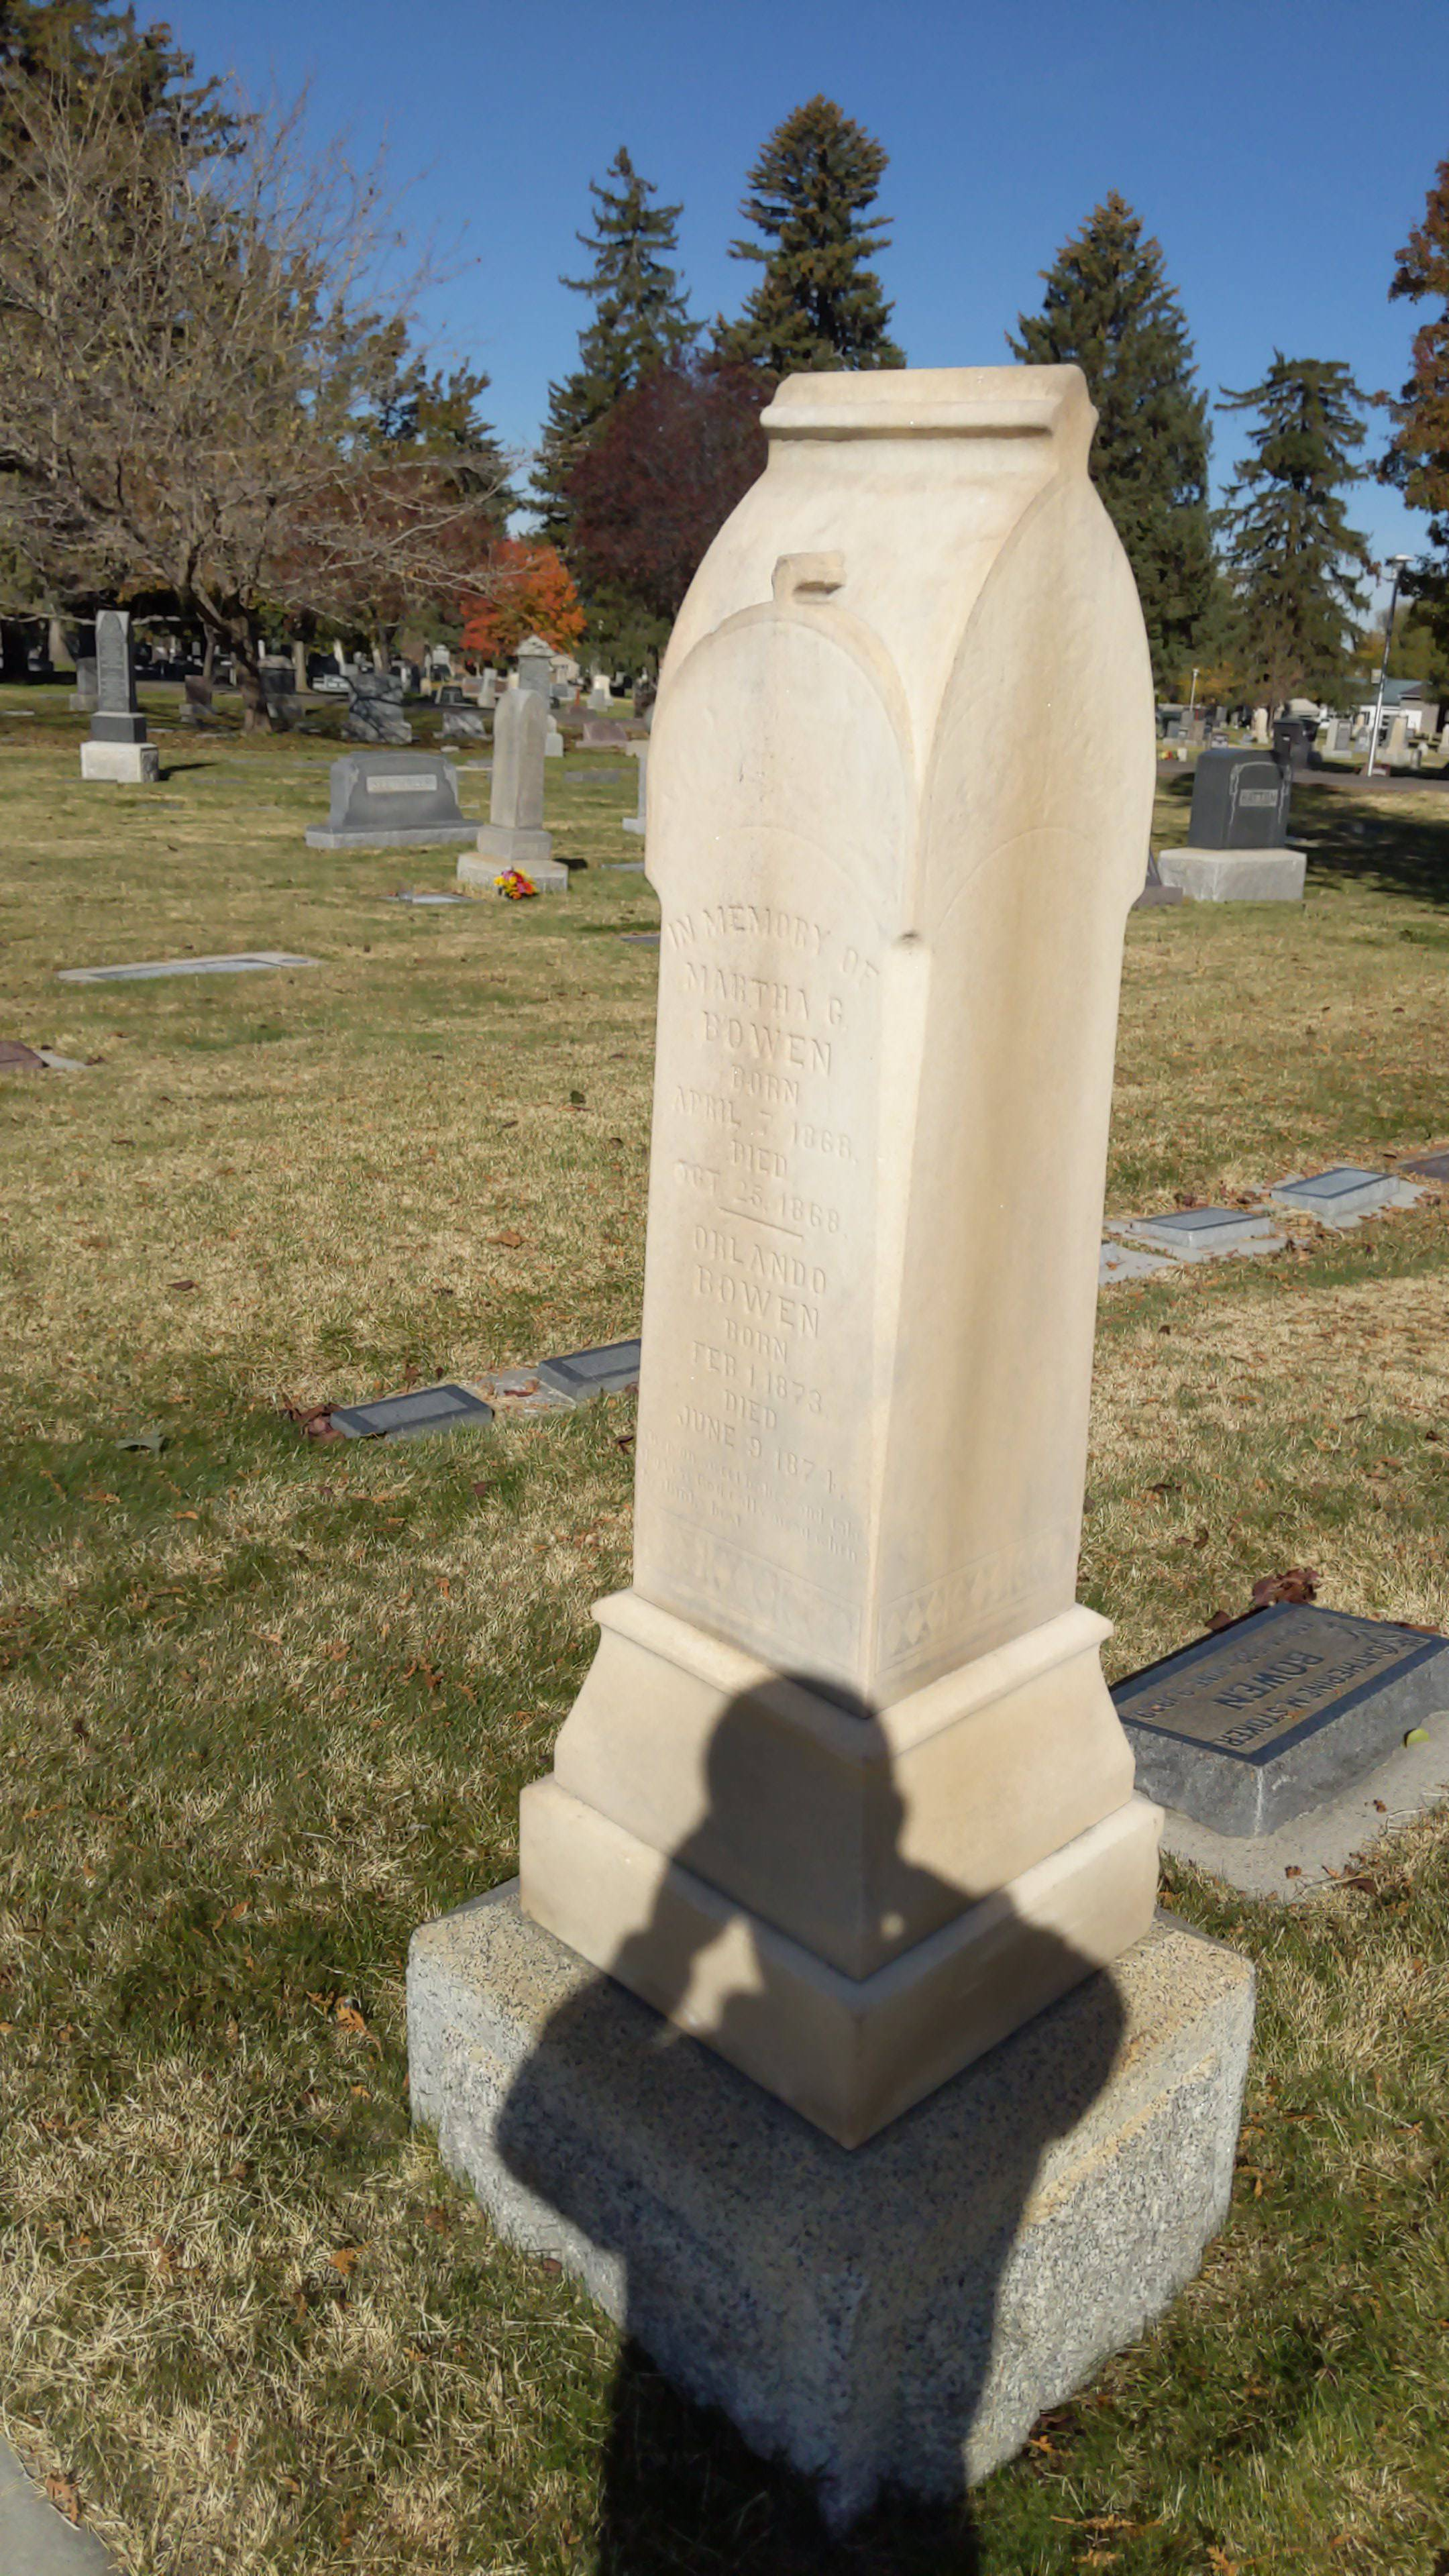obelisk: (522, 366, 1155, 2141)
